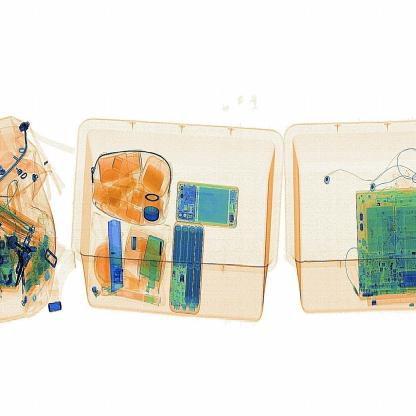pliers: (100, 218, 136, 307)
